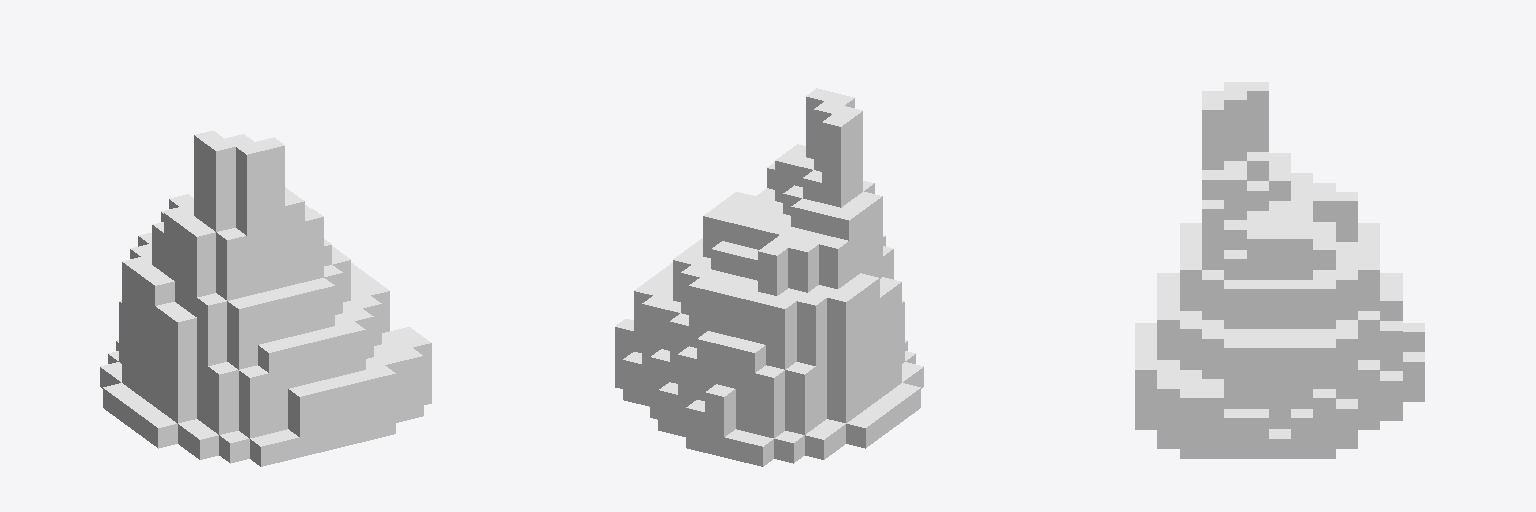
File: Stein.obj
The picture shows the model from 3 angles: view 1: azimuth 30°, elevation 25°; view 2: azimuth 150°, elevation 25°; view 3: azimuth 270°, elevation 25°; orthographic projection.
Visible parts, largest first — view 1: object 1; view 2: object 1; view 3: object 1.
Part boxes in pixels (left/top/right/bottom): object 1: left=100, top=131, right=431, bottom=466; object 1: left=615, top=88, right=923, bottom=466; object 1: left=1135, top=82, right=1424, bottom=458.
Size of the model in its own units: 1.3 by 1.4 by 1.3.